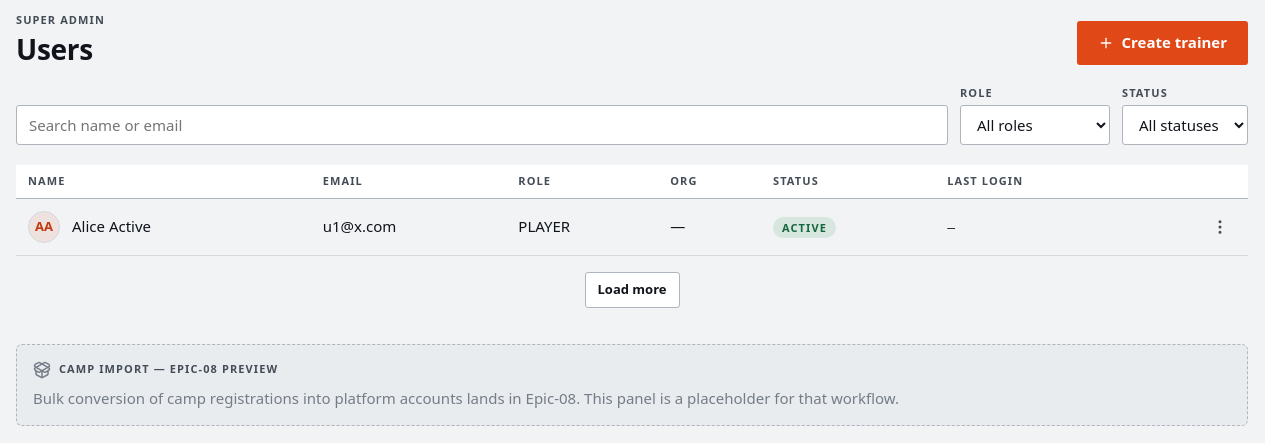
UsersDirectory › appends the next page, passing the opaque cursor back verbatim
Expected: the text "Alice Active" is shown, [72, 215, 151, 238]
Click the button "Load more" at (632, 290), box [584, 272, 680, 308]
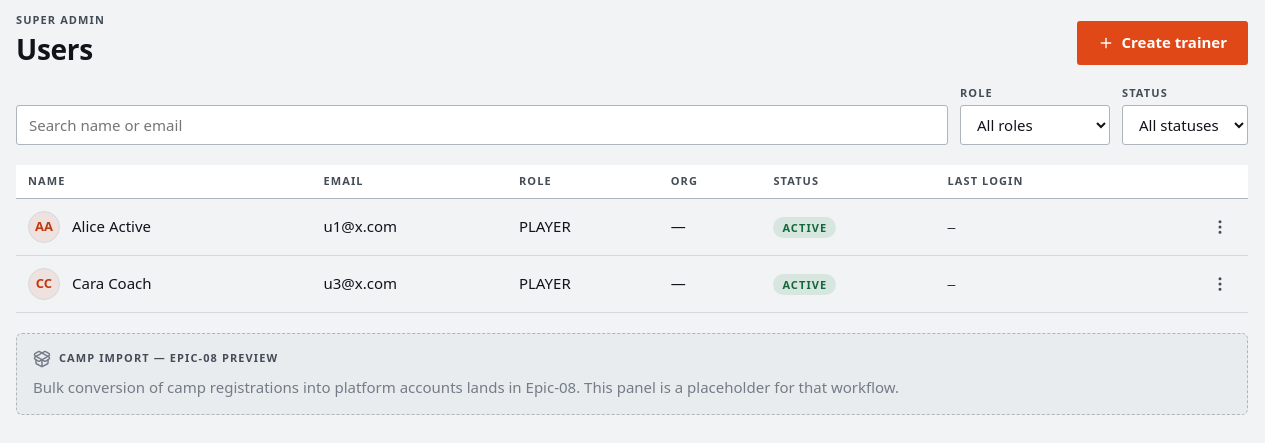
Result: the text "Cara Coach" is shown at [72, 272, 152, 295]
